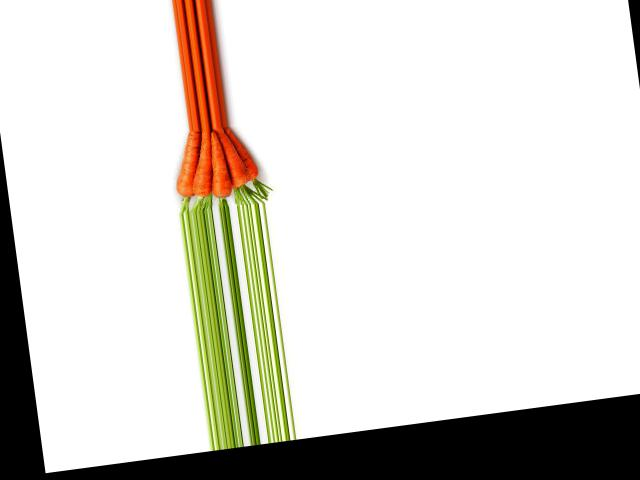carrot: (223, 122, 266, 183)
